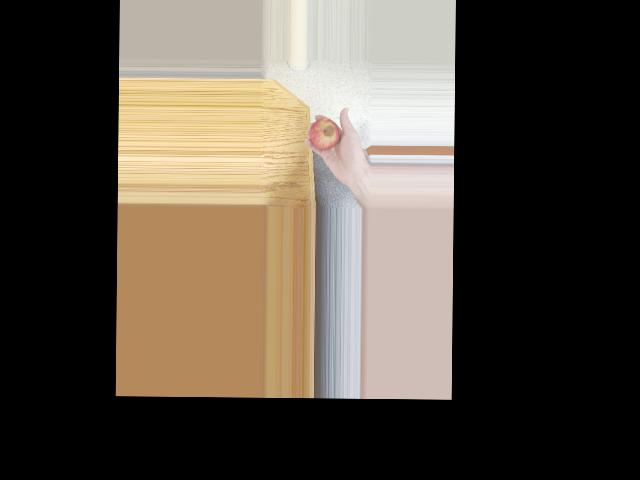apple: (306, 113, 344, 162)
